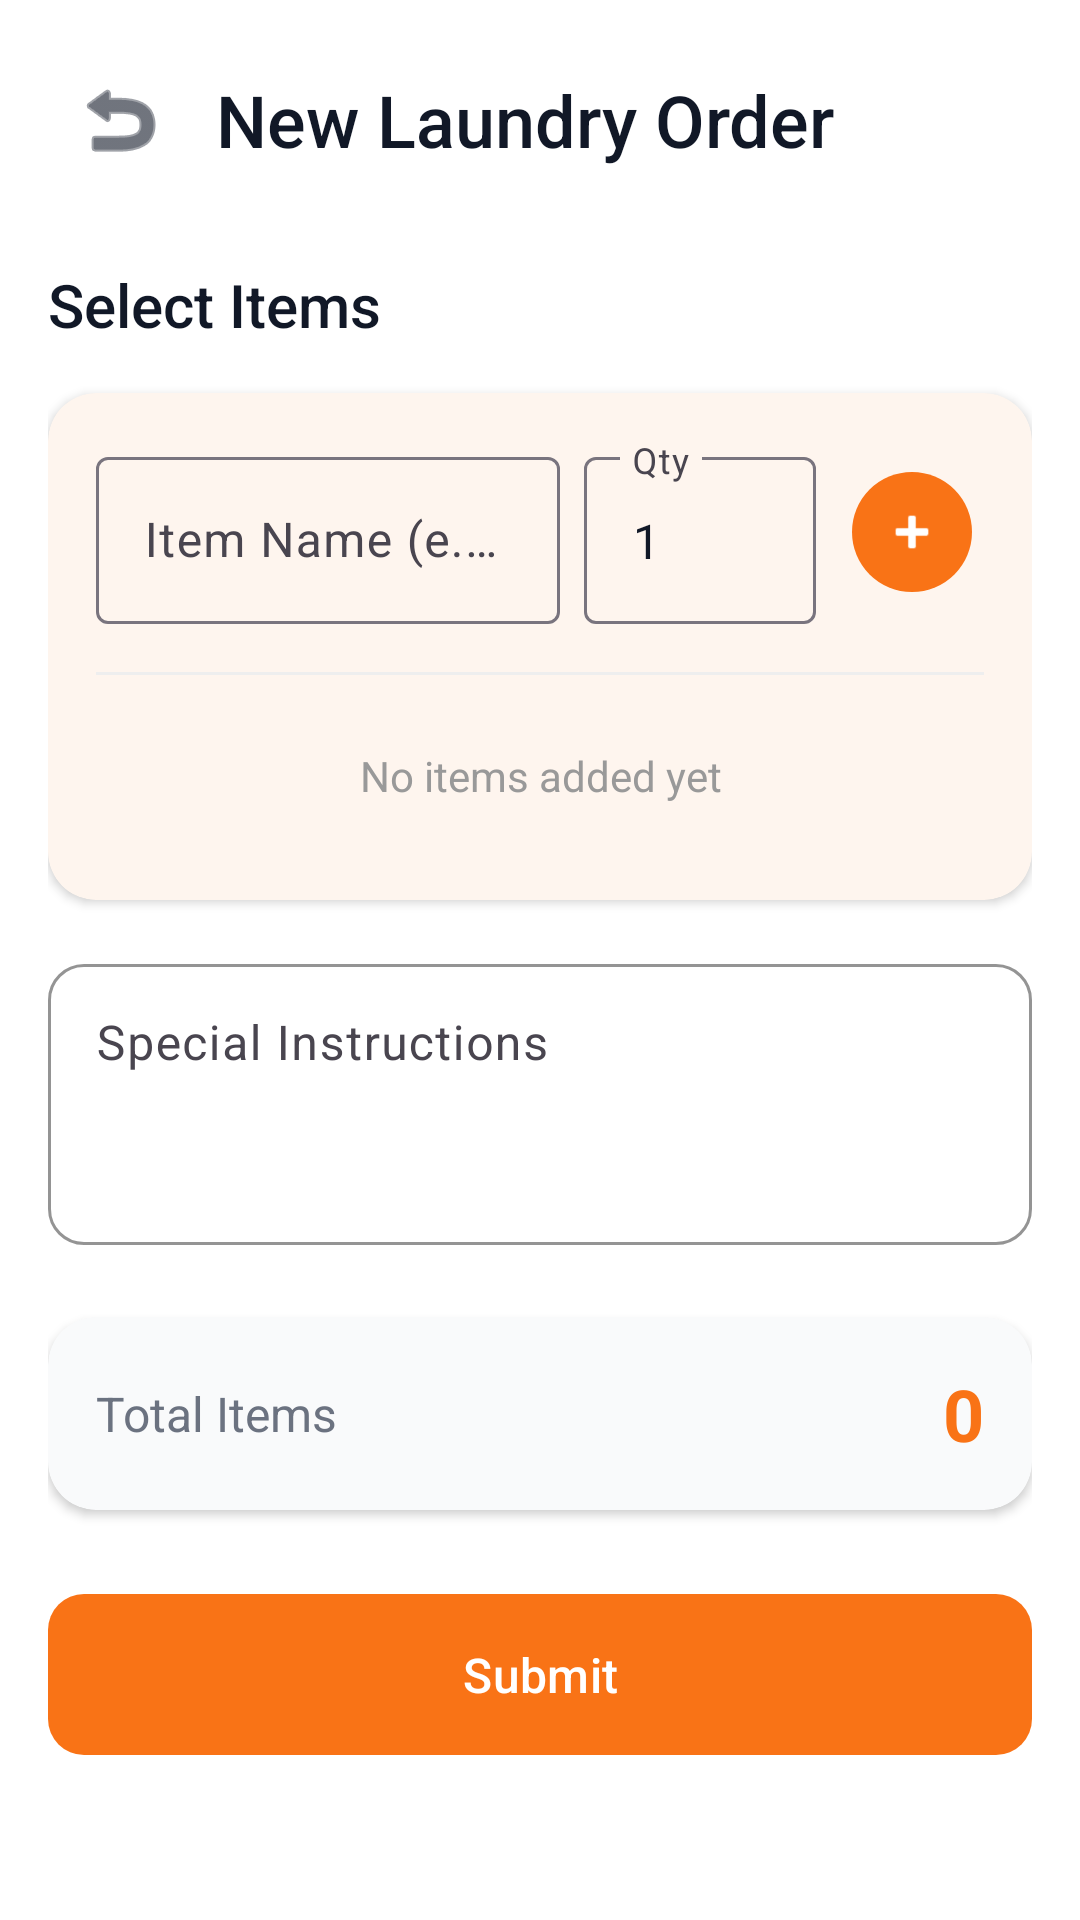

Locate icon controls on the screen. Image size 1080 x 1920, boxes as box=[x1, y1, x2, y2].
add: box=[852, 472, 972, 592]
Back: box=[87, 89, 156, 152]
